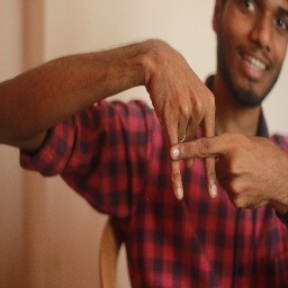H: (149, 105, 247, 211)
